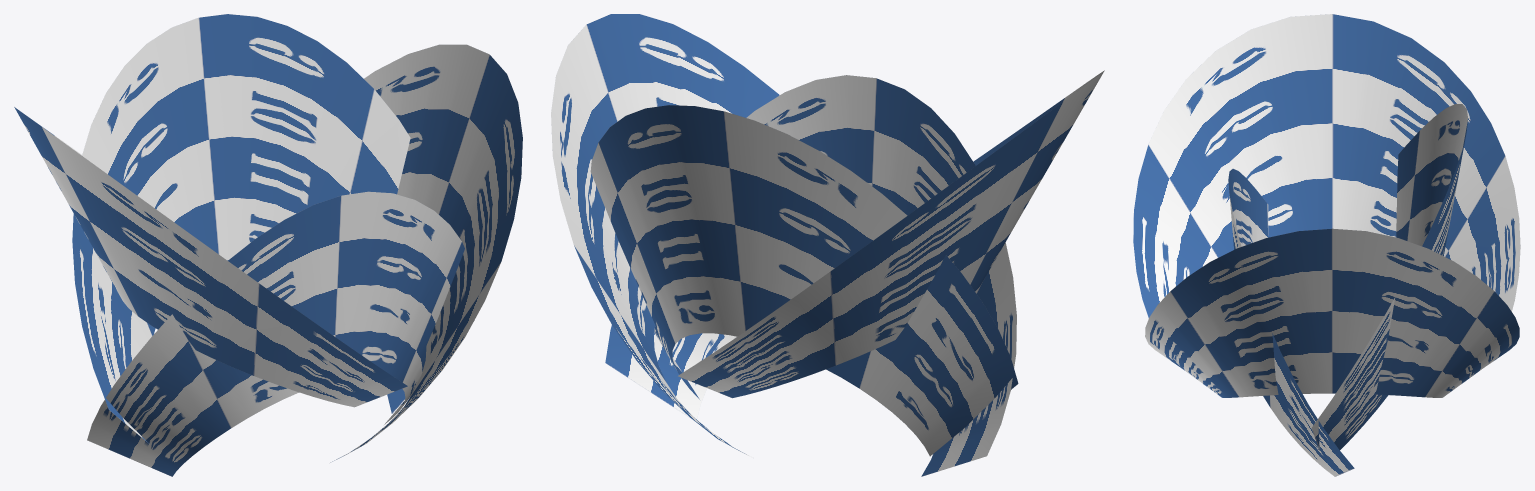
The model's file is NeShock1.fbx.
3 renders of one model, left to right at view 1: azimuth 30°, elevation 25°; view 2: azimuth 150°, elevation 25°; view 3: azimuth 270°, elevation 25°, orthographic. The views are drawn at different scales.
Visible parts, largest first — view 1: SM_e_Plc_P0002_Shock001; view 2: SM_e_Plc_P0002_Shock001; view 3: SM_e_Plc_P0002_Shock001.
Part boxes in pixels (x1,y1,x2,y2): SM_e_Plc_P0002_Shock001: [14, 14, 522, 476]; SM_e_Plc_P0002_Shock001: [551, 14, 1104, 476]; SM_e_Plc_P0002_Shock001: [1133, 14, 1520, 476].
Bounding box in the file's own units: 41.4 × 33.89 × 36.9.
